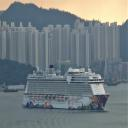cruises: (22, 64, 111, 114)
